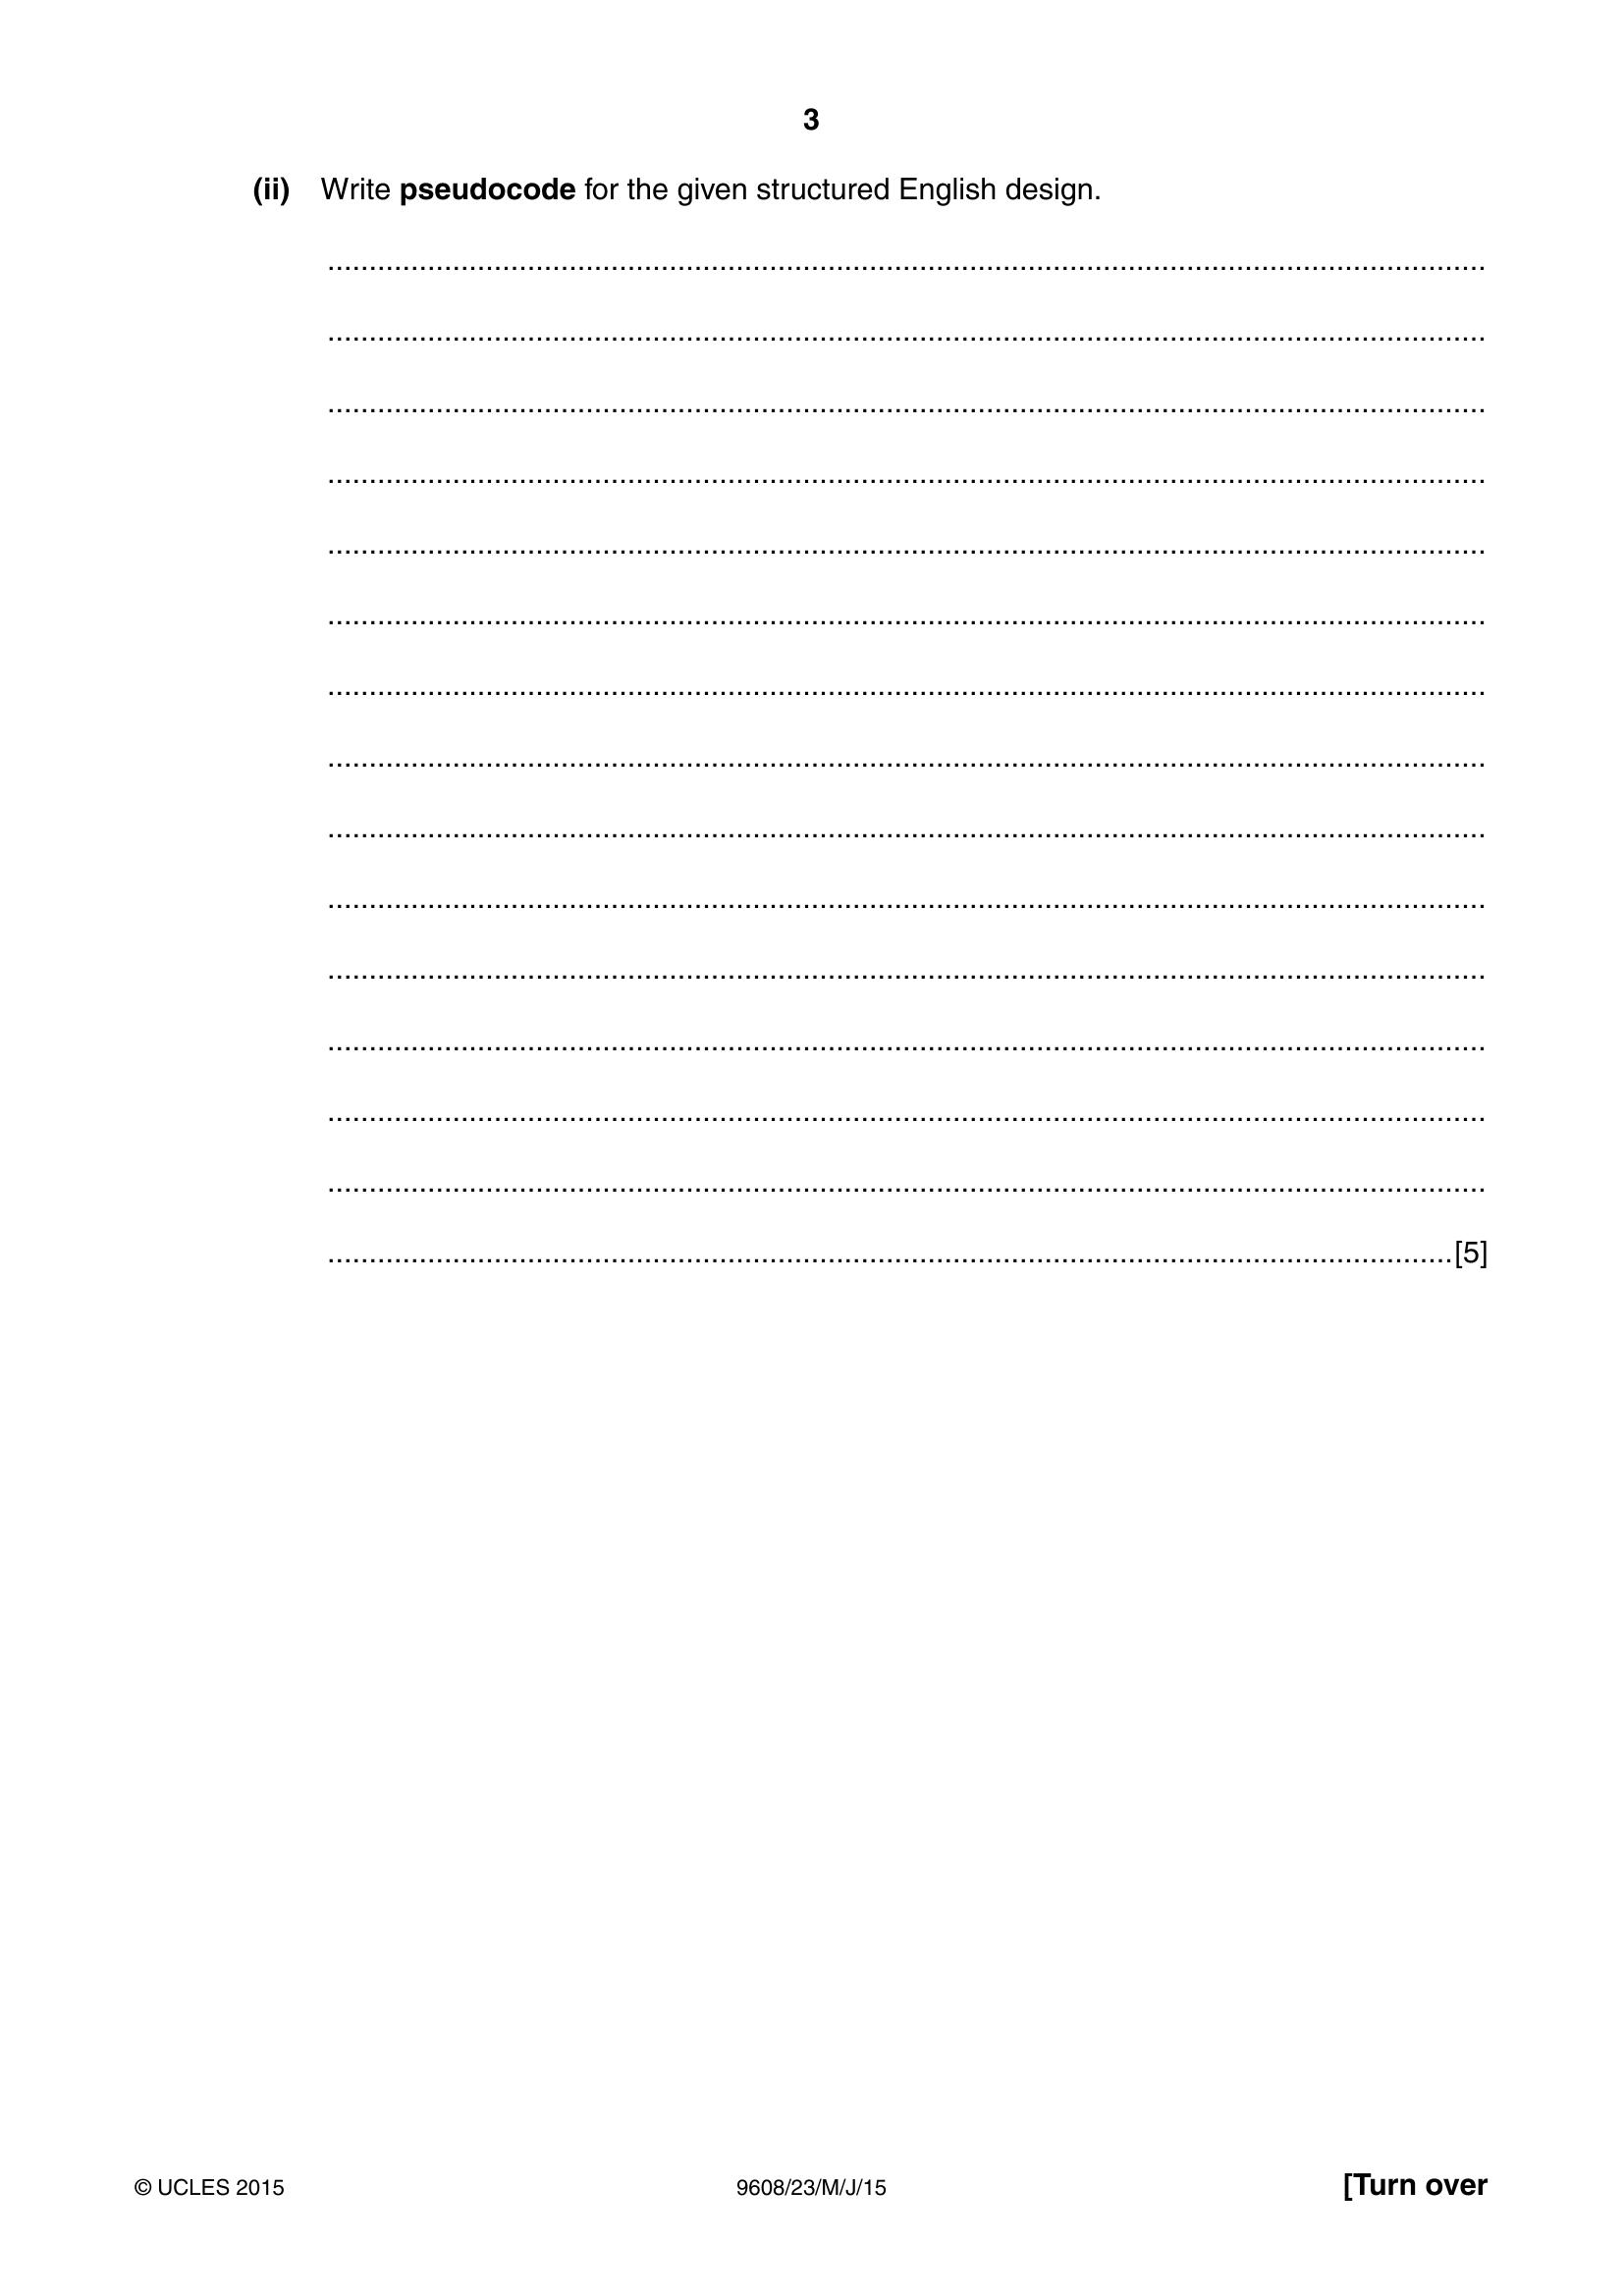continued question: (5, 148, 1624, 1409)
